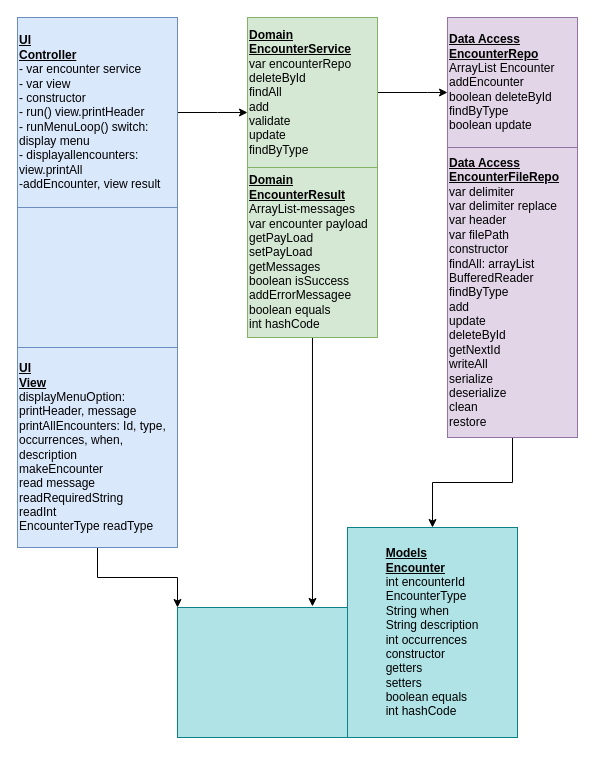
Image size: 595x763. Some labels were removed from this diagram. Here are the shapes that lost their labels. From the top down, the centre of each, then its label:
At [97,277]: "UI MenuOption - enum EXIT DISPLAY_ALL ADD var string message constructor getter".
At [262,672]: "Models EncounterType - enum UFO CREATURE VOICE SOUND VISION".
